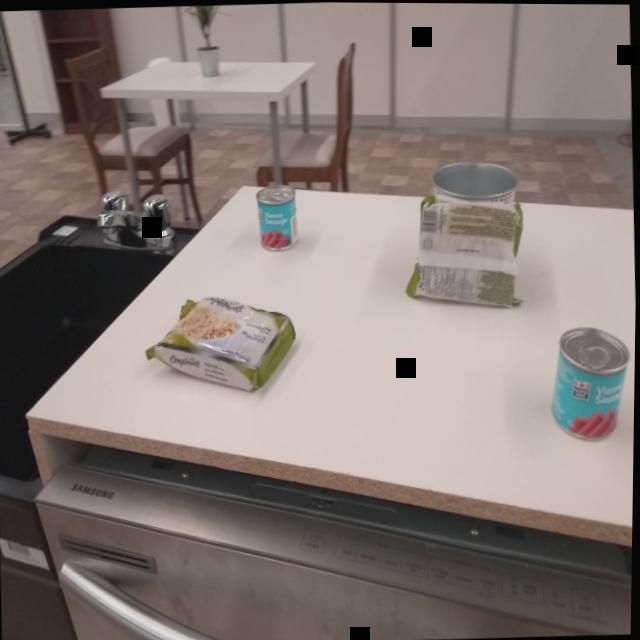noodles: (139, 286, 302, 400), (397, 187, 532, 316)
sausages: (543, 319, 636, 448), (254, 180, 303, 257)
